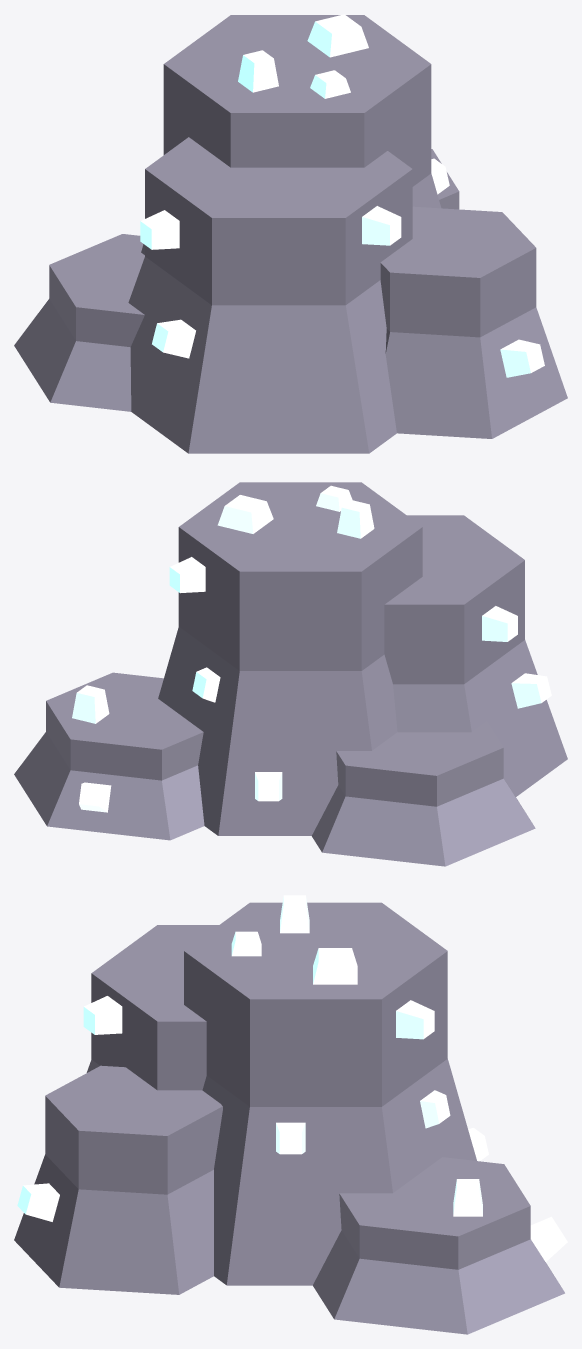
The model's file is rock_crystalsLargeB.glb.
3 views of the same model, one above another, from view 1: azimuth 30°, elevation 25°; view 2: azimuth 150°, elevation 25°; view 3: azimuth 270°, elevation 25° (orthographic). The views are drawn at different scales.
Parts seen in each view (by area): view 1: rock_crystalsLargeB; view 2: rock_crystalsLargeB; view 3: rock_crystalsLargeB.
Part boxes in pixels (x1,y1,x2,y2): rock_crystalsLargeB: (14,14,567,453); rock_crystalsLargeB: (14,482,567,866); rock_crystalsLargeB: (14,895,567,1334).
Size of the model in its own units: 0.9393 by 0.55 by 0.9321.
